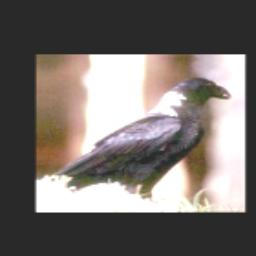Crow: (44, 69, 234, 205)
